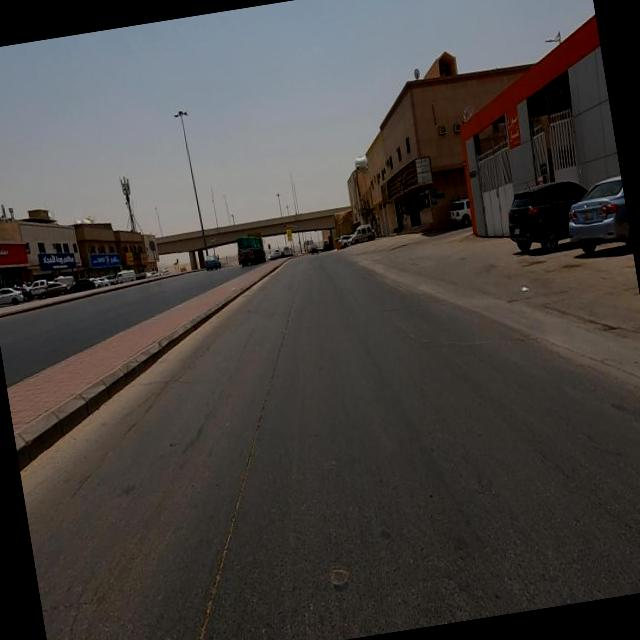debris: (350, 134, 470, 224)
